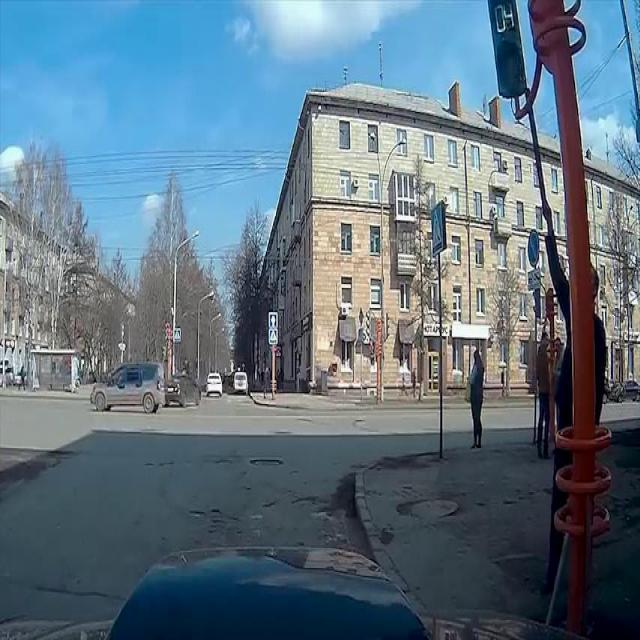Moderate: (92, 354, 205, 419)
